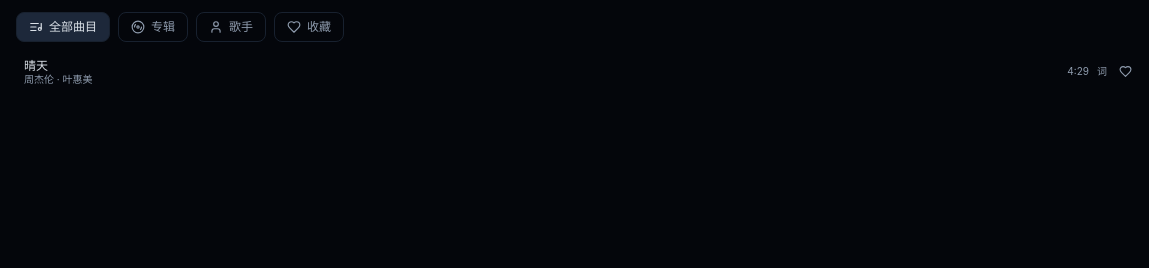
Test: Music page (QYP3-008) › shows album grid and opens album tracks
# 默认视图是「全部曲目」（QYP3-045），专辑网格要切过去
What coordinates should you click on to do the following:
click the button "专辑"
I would click on:
 (153, 27)
Its box is [118,12,188,42].
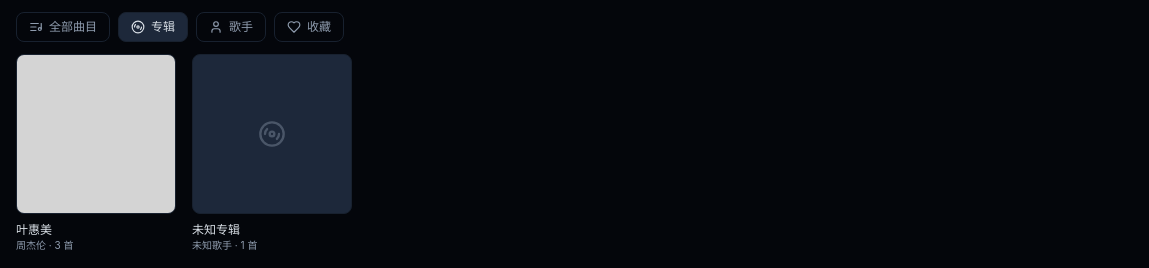
Expected: the text "周杰伦 · 3 首" is shown, [16,239,74,251]
Expected: the text "未知专辑" is shown, [192,222,240,237]
# 点击专辑 → 曲目列表
What coordinates should you click on to do the following:
click the text "叶惠美"
I would click on:
 (34, 230)
Its box is [16,222,52,237].
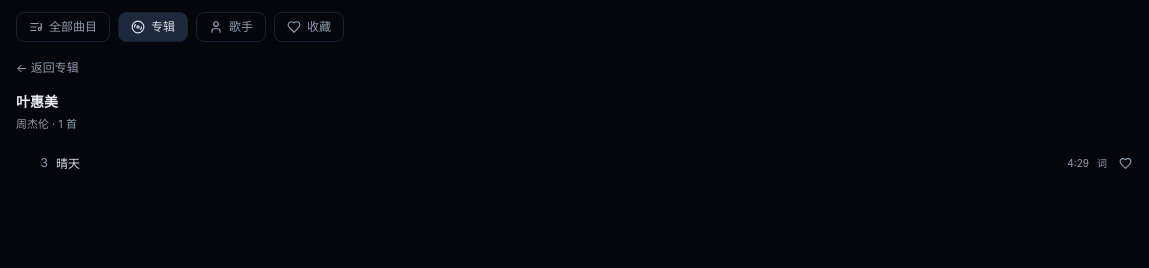
Expected: the text "晴天" is shown, [56,156,80,170]
Expected: the text "周杰伦 · 1 首" is shown, [16,117,77,131]
Expected: the button "← 返回专辑" is shown, [16,60,79,76]
